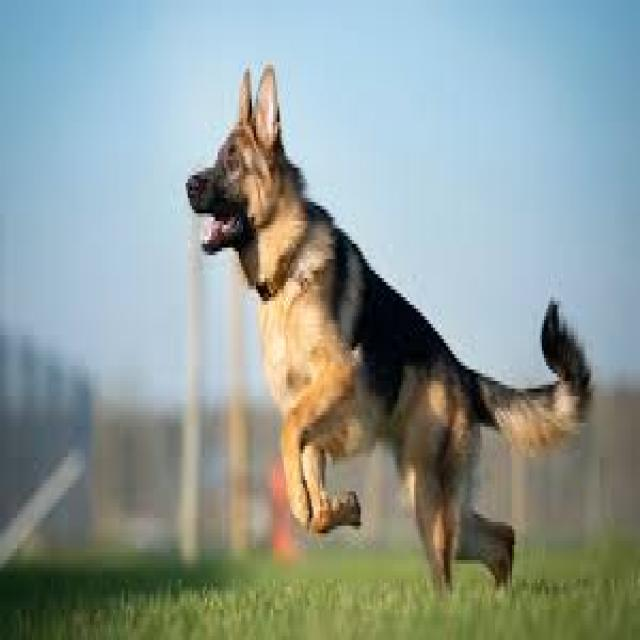Dog: (185, 63, 595, 606)
